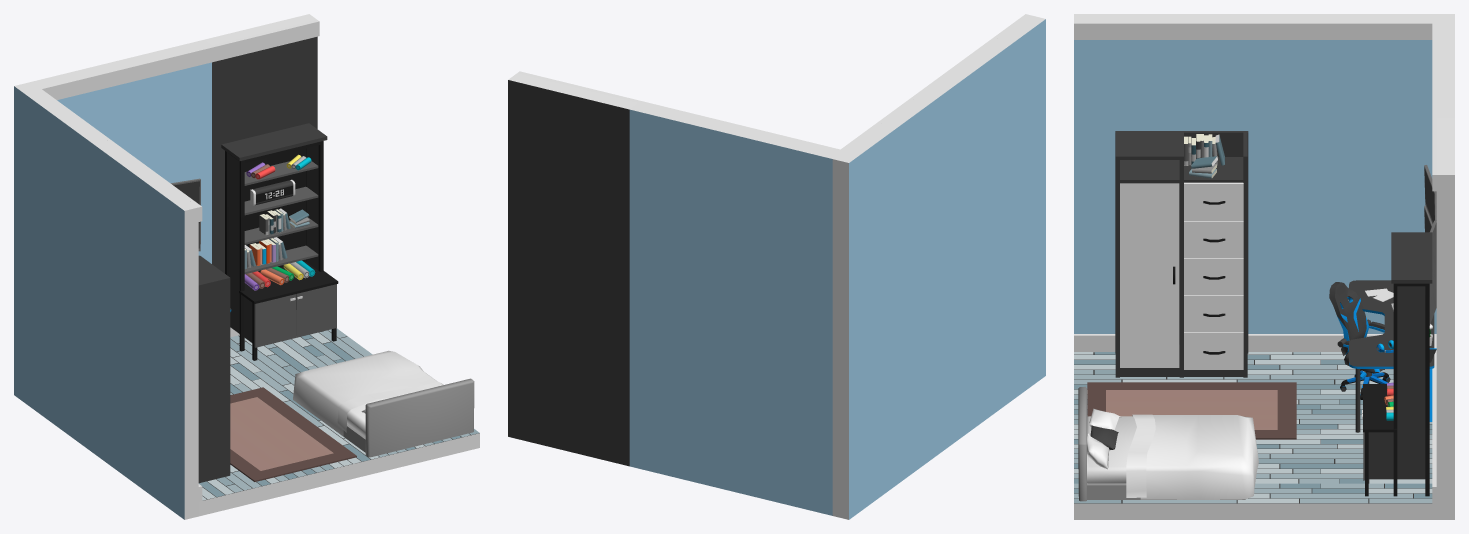
Rendered from room_8.glb.
The picture shows the model from 3 angles, left to right: view 1: azimuth 30°, elevation 25°; view 2: azimuth 150°, elevation 25°; view 3: azimuth 270°, elevation 25°; orthographic projection. The views are drawn at different scales.
Parts seen in each view (by area): view 1: Walls_172.003, shelf_028.001, Walls_172.004, bed_015.002, Walls_011.024, floor_002.002, carpet_001.006, closet_017.001, Walls_011.023, Walls_003.028, prop_029.005, prop_077.015 (+2 smaller); view 2: Walls_172.003, Walls_172.004, Walls_011.024, Walls_003.028, Walls_003.029; view 3: Walls_172.003, closet_017.001, floor_002.002, bed_015.002, shelf_028.001, Walls_011.023, carpet_001.006, Walls_011.024, Walls_003.029, office_table_038.001, Walls_003.031, office_chair_019.001 (+6 smaller).
Part boxes in pixels (bbox=[...]): Walls_172.003: bbox=[14, 82, 198, 519]; shelf_028.001: bbox=[221, 123, 338, 360]; Walls_172.004: bbox=[28, 40, 211, 263]; bed_015.002: bbox=[293, 350, 474, 457]; Walls_011.024: bbox=[204, 14, 317, 273]; floor_002.002: bbox=[199, 328, 479, 500]; carpet_001.006: bbox=[230, 387, 356, 481]; closet_017.001: bbox=[198, 255, 230, 483]; Walls_011.023: bbox=[198, 330, 479, 516]; Walls_003.028: bbox=[36, 20, 319, 99]; prop_029.005: bbox=[250, 179, 295, 205]; prop_077.015: bbox=[249, 237, 287, 265]; Walls_172.003: bbox=[832, 15, 1045, 519]; Walls_172.004: bbox=[629, 102, 841, 515]; Walls_011.024: bbox=[508, 73, 638, 466]; Walls_003.028: bbox=[518, 71, 843, 151]; Walls_003.029: bbox=[841, 14, 1028, 150]; Walls_172.003: bbox=[1074, 14, 1454, 333]; closet_017.001: bbox=[1115, 131, 1248, 377]; floor_002.002: bbox=[1074, 352, 1432, 503]; bed_015.002: bbox=[1078, 386, 1258, 501]; shelf_028.001: bbox=[1362, 232, 1432, 496]; Walls_011.023: bbox=[1074, 352, 1436, 519]; carpet_001.006: bbox=[1087, 382, 1296, 439]; Walls_011.024: bbox=[1436, 117, 1454, 519]; Walls_003.029: bbox=[1074, 21, 1432, 39]; office_table_038.001: bbox=[1349, 280, 1436, 432]; Walls_003.031: bbox=[1074, 334, 1382, 352]; office_chair_019.001: bbox=[1329, 282, 1390, 399].
Bounding box in the file's own units: 4.2 × 4.2 × 4.2.
1 material, 1 textured.
